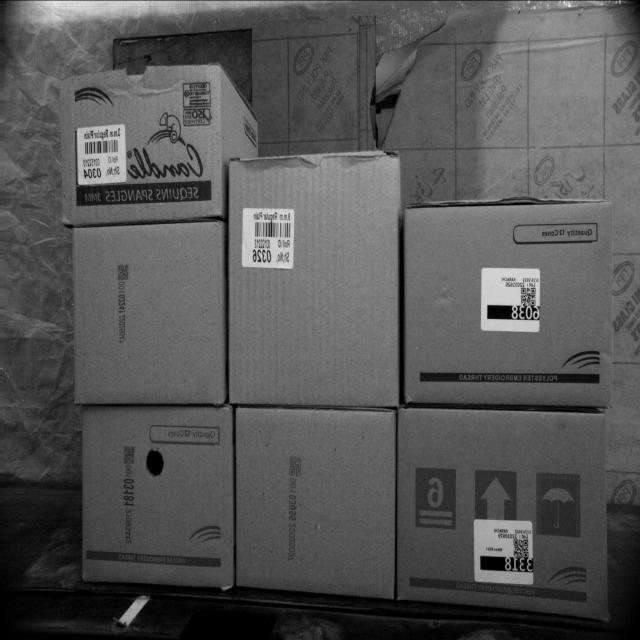cardboxes: (396, 412, 609, 619), (401, 198, 615, 404), (232, 158, 400, 406), (232, 408, 398, 596), (73, 222, 227, 404), (82, 403, 232, 584), (67, 58, 221, 226), (10, 261, 16, 263)
